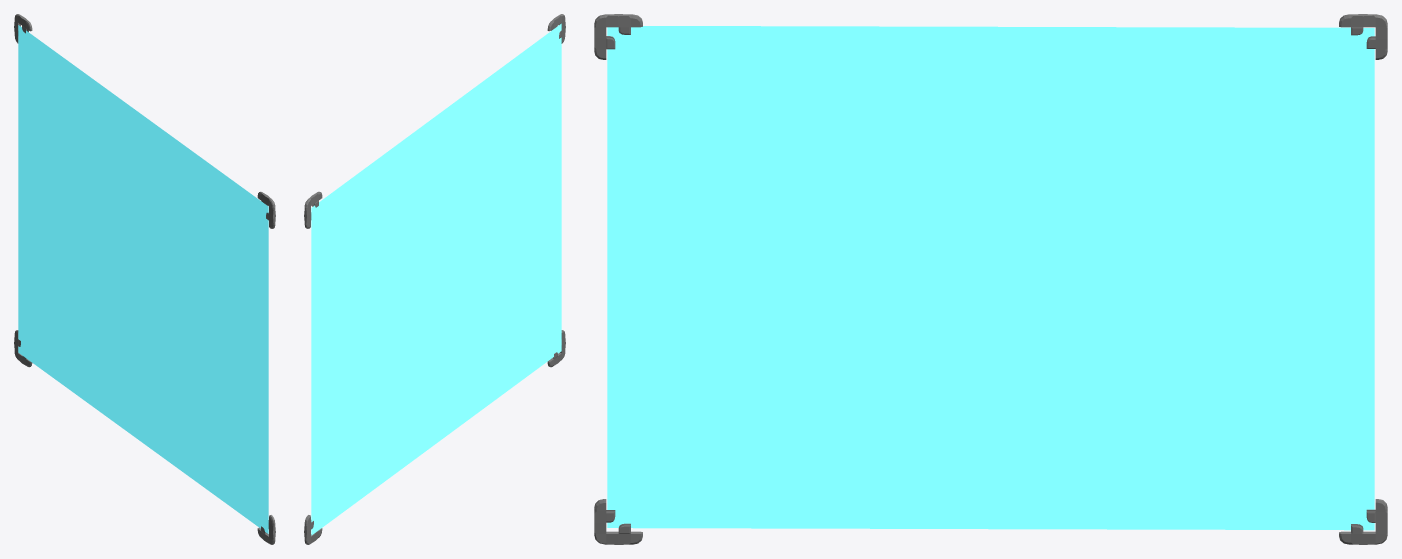
The model's file is BLOCK3.fbx.
3 views of the same model, side by side, from view 1: azimuth 30°, elevation 25°; view 2: azimuth 150°, elevation 25°; view 3: azimuth 270°, elevation 25° (orthographic). The views are drawn at different scales.
Visible parts, largest first — view 1: Plane, Cube; view 2: Plane, Cube.001; view 3: Plane, Cube, Cube.002, Cube.001, Cube.003.
Part boxes in pixels (x1,y1,x2,y2): Plane: (18,25,268,533); Cube: (257,191,275,228); Plane: (311,23,561,535); Cube.001: (304,191,322,228); Plane: (607,26,1374,530); Cube: (594,14,642,59); Cube.002: (1339,499,1387,544); Cube.001: (1339,14,1387,59); Cube.003: (594,499,642,544).
Bounding box in the file's own units: 23.84 × 2388 × 3248.
